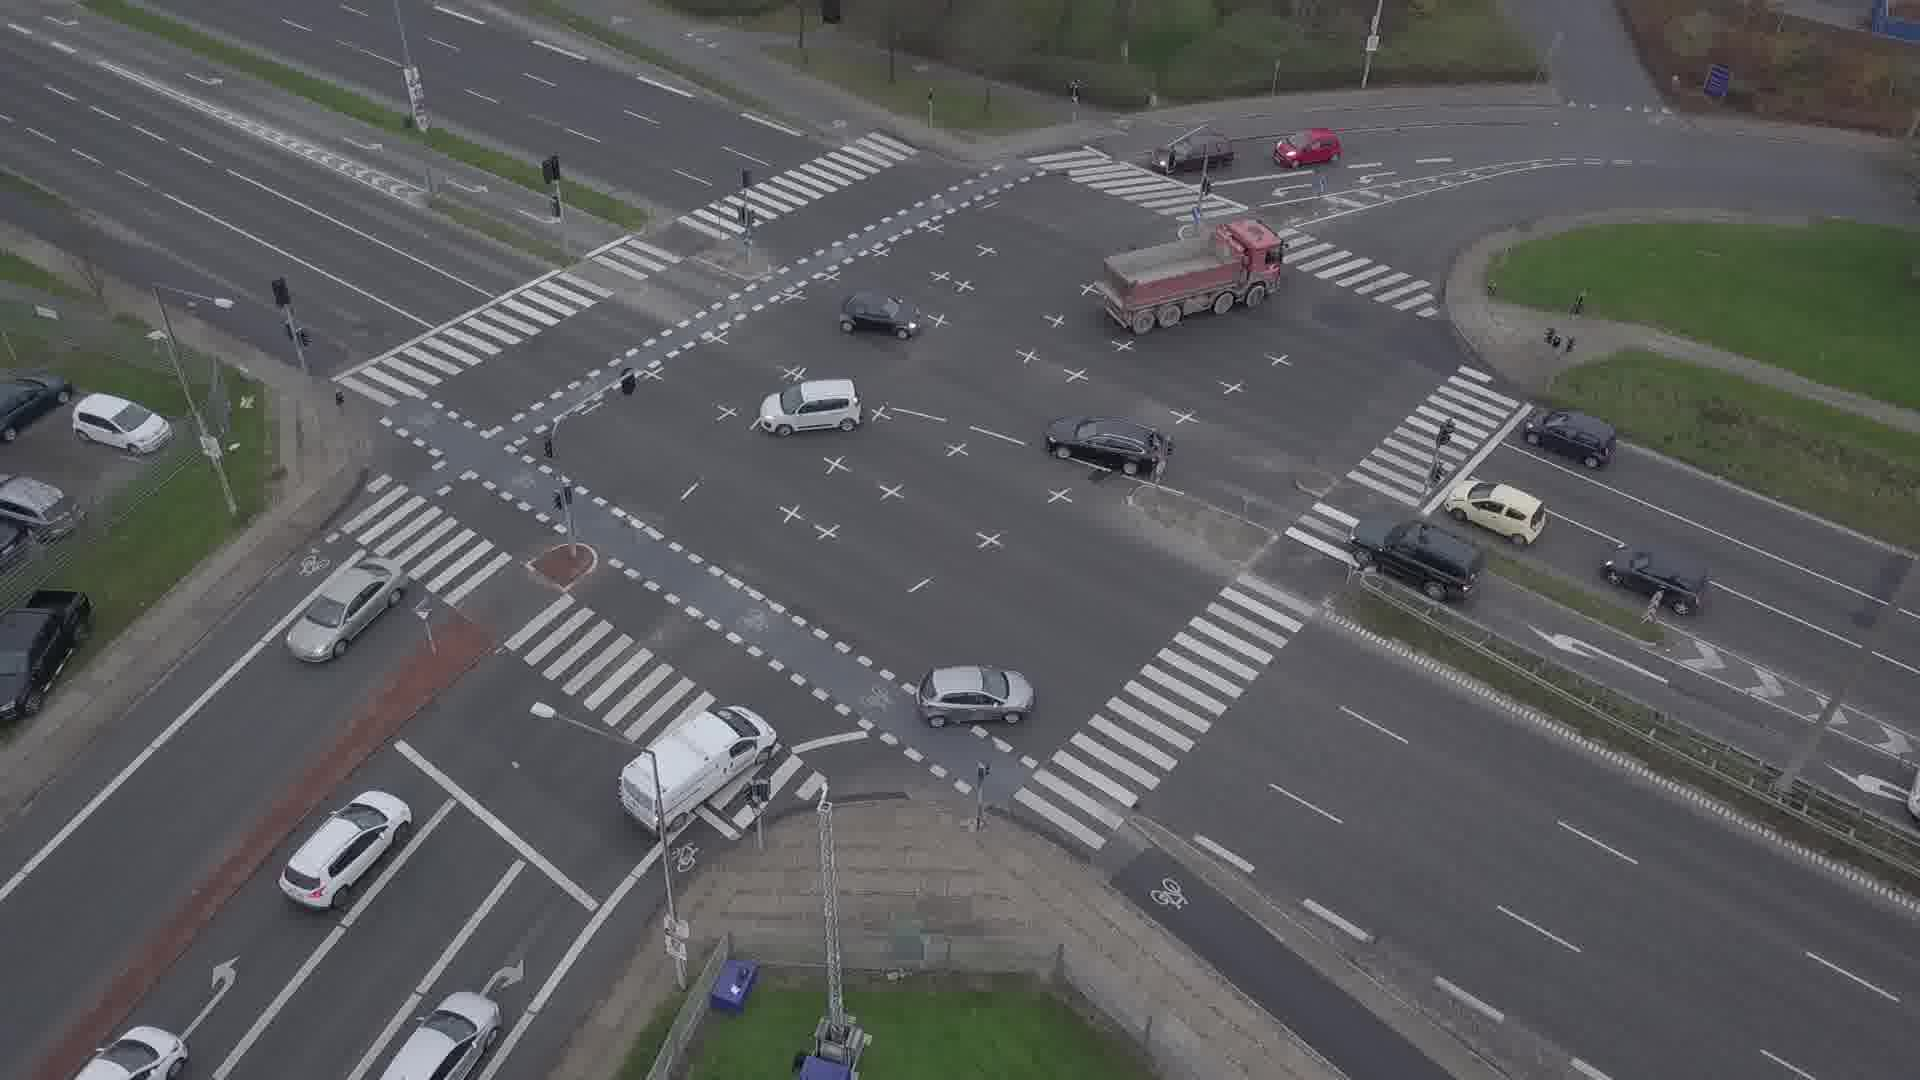car: (278, 791, 411, 909), (285, 556, 407, 663), (1348, 516, 1487, 603), (373, 992, 502, 1080), (1600, 545, 1708, 616), (915, 665, 1034, 728), (1044, 418, 1170, 475), (1443, 479, 1545, 546), (69, 1026, 189, 1080), (760, 378, 862, 436), (1520, 407, 1615, 468), (839, 291, 922, 339), (1151, 132, 1234, 173), (1273, 128, 1342, 167)
